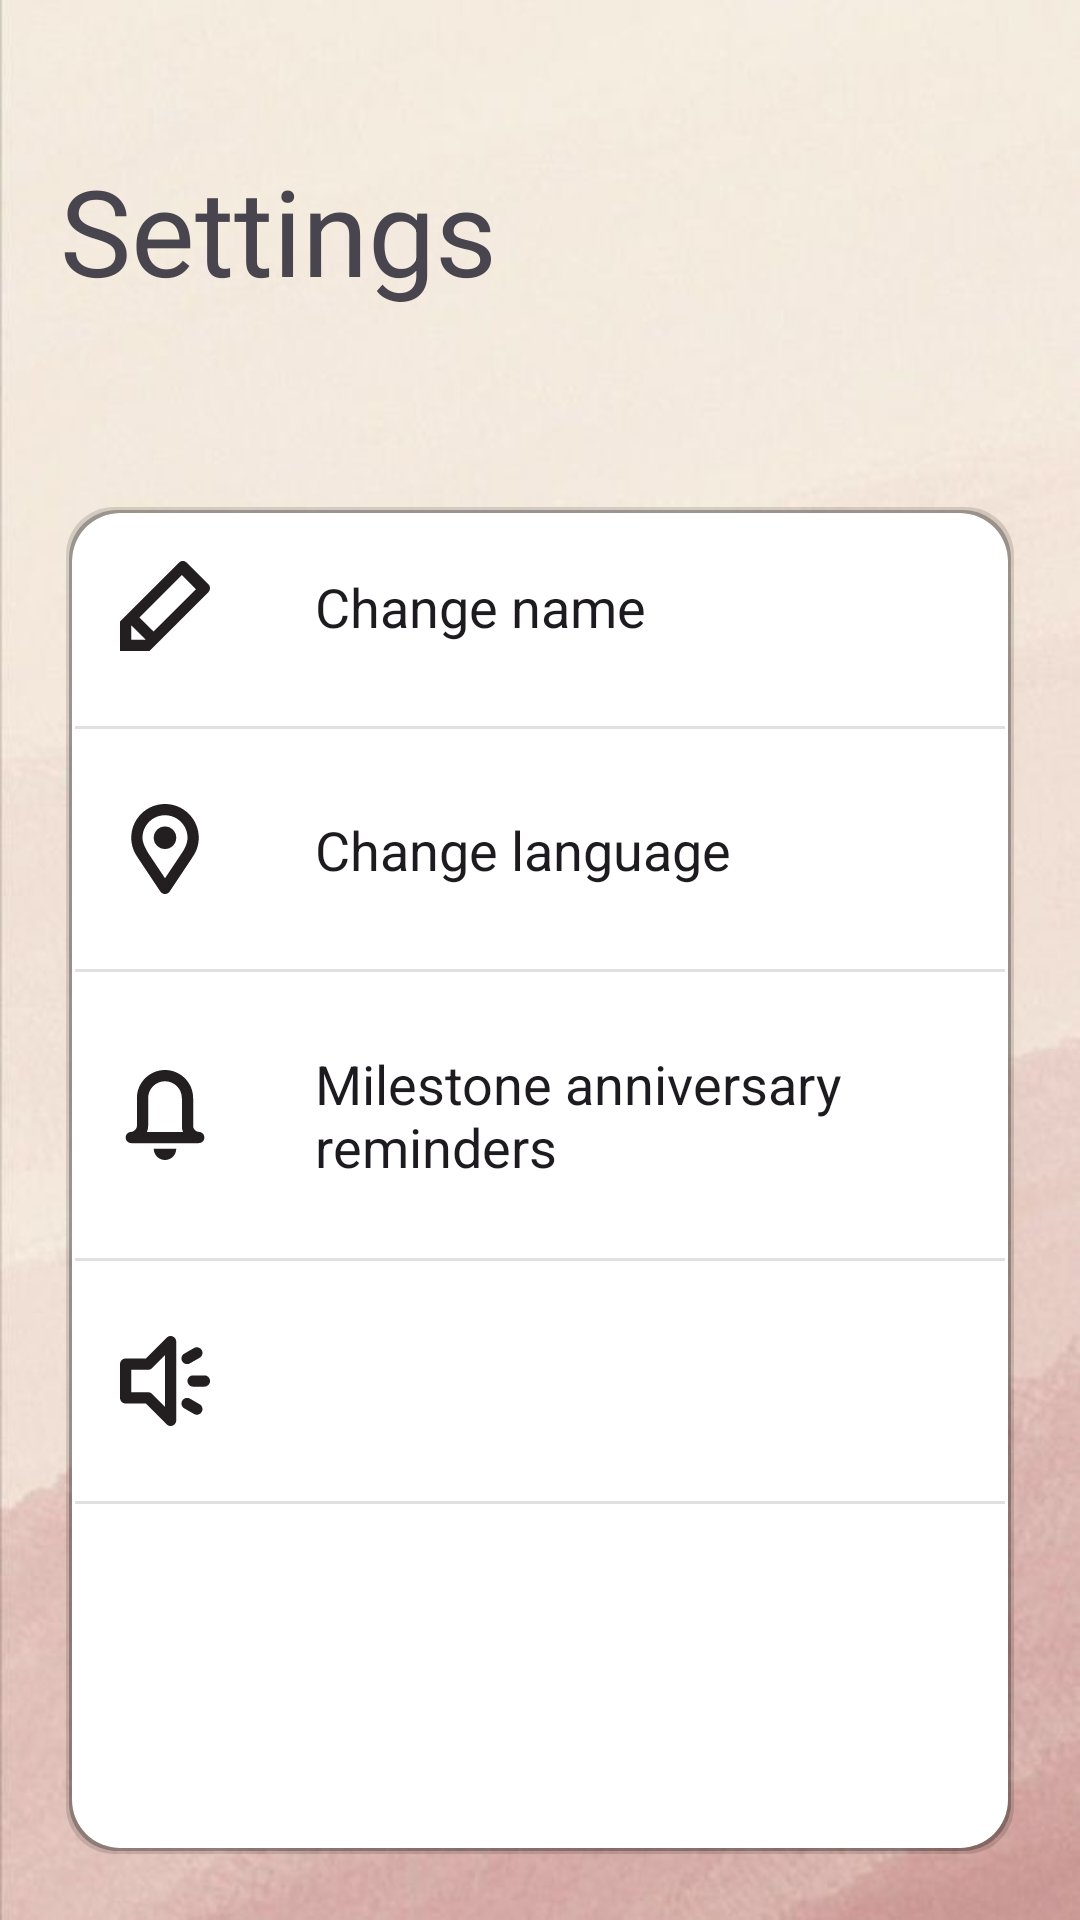

Icon bounding boxes for this 1080px x 1920px phone screenshot, format (x1=x1, y1=y1, x2=x2, y2=y2):
bell: (x1=125, y1=1070, x2=205, y2=1160)
location pin: (x1=131, y1=804, x2=199, y2=894)
pencil: (x1=120, y1=561, x2=210, y2=651)
speaker: (x1=120, y1=1336, x2=210, y2=1426)
